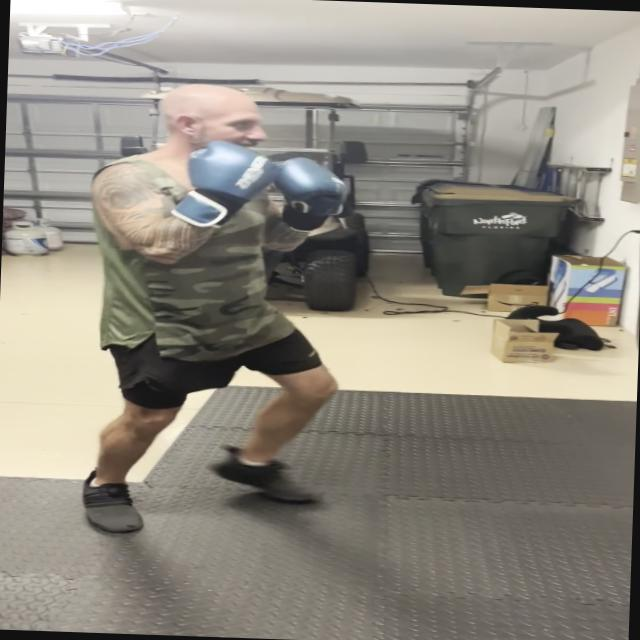no punch: (84, 78, 375, 282)
